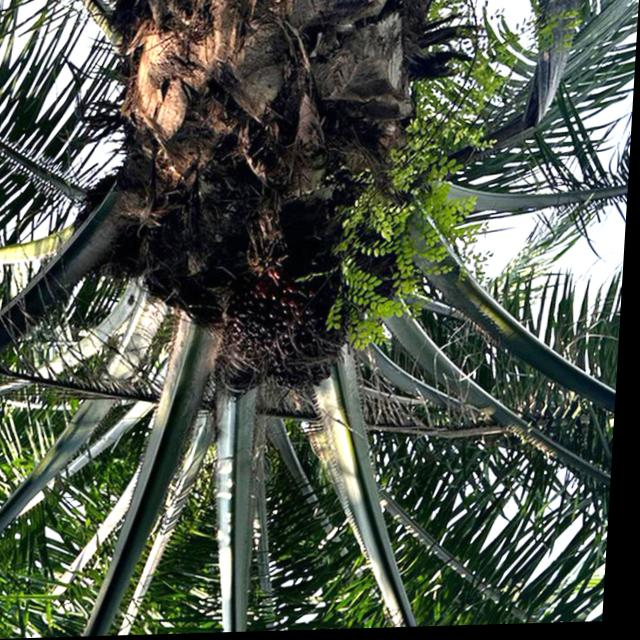unripe: (211, 218, 382, 388)
